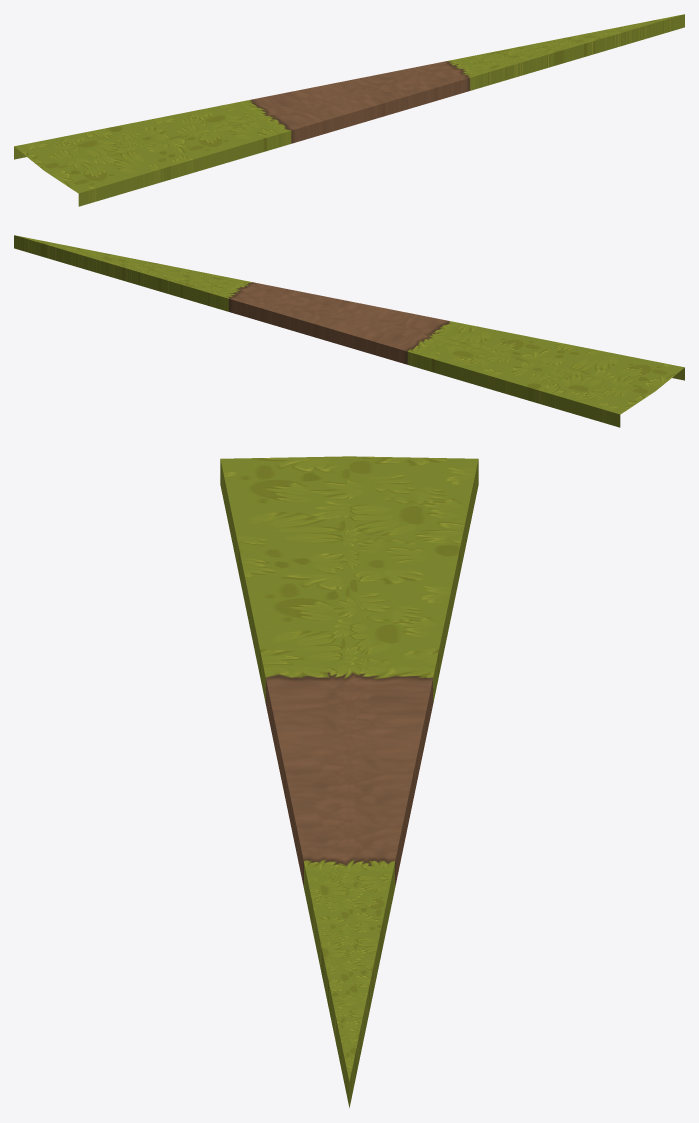
The model's file is road_curve_1.fbx.
The picture shows the model from 3 angles, top to bottom: view 1: azimuth 30°, elevation 25°; view 2: azimuth 150°, elevation 25°; view 3: azimuth 270°, elevation 25°; orthographic projection. The views are drawn at different scales.
Parts seen in each view (by area): view 1: road_curve_1; view 2: road_curve_1; view 3: road_curve_1.
Boxes of the visible parts, bbox=[...] form: road_curve_1: bbox=[14, 14, 684, 206]; road_curve_1: bbox=[14, 235, 684, 427]; road_curve_1: bbox=[220, 456, 478, 1108].
Size of the model in its own units: 2400 by 47.35 by 418.
Materials: 1 (1 with a texture image).
